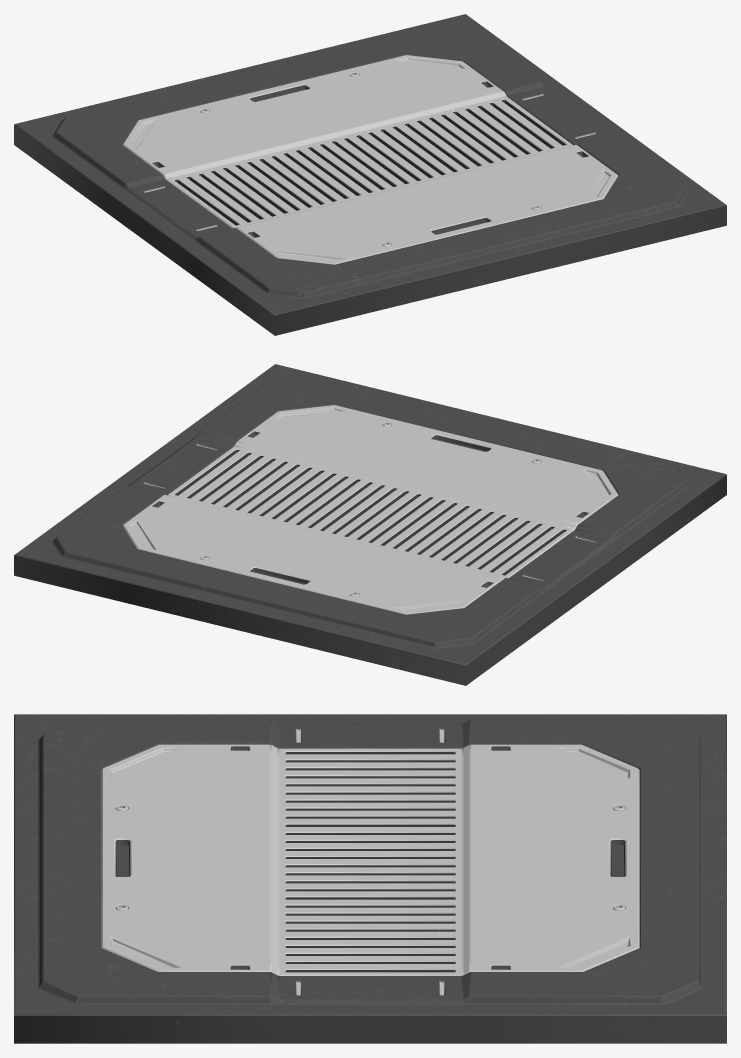
3 views of the same model, one above another, from view 1: azimuth 30°, elevation 25°; view 2: azimuth 150°, elevation 25°; view 3: azimuth 270°, elevation 25° (orthographic). The views are drawn at different scales.
Parts seen in each view (by area): view 1: Floor 1; view 2: Floor 1; view 3: Floor 1.
Boxes of the visible parts, x1,y1,x2,y2 form: Floor 1: (14, 14, 726, 335); Floor 1: (14, 364, 726, 685); Floor 1: (14, 714, 726, 1043).
Bounding box in the file's own units: 2 × 0.1121 × 2.
